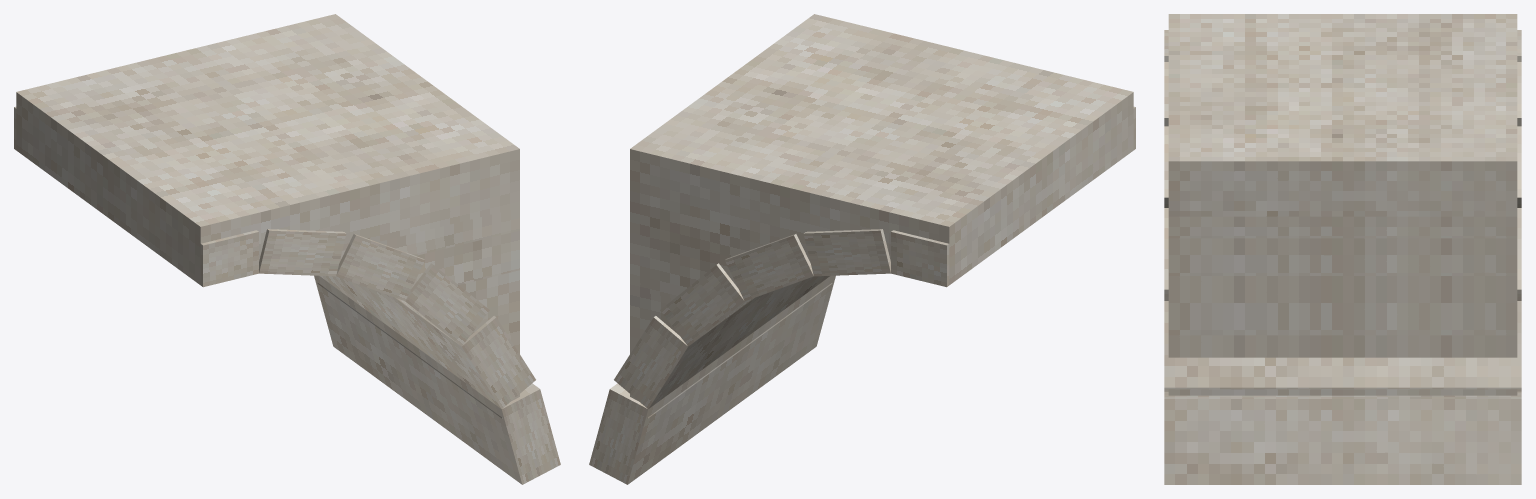
File: lime_gypsum_plaster_double_arch.obj
The picture shows the model from 3 angles, left to right: view 1: azimuth 30°, elevation 25°; view 2: azimuth 150°, elevation 25°; view 3: azimuth 270°, elevation 25°; orthographic projection. The views are drawn at different scales.
Visible parts, largest first — view 1: cube.001; view 2: cube.001; view 3: cube.001.
Part boxes in pixels (x1,y1,x2,y2): cube.001: [14, 14, 560, 484]; cube.001: [589, 14, 1135, 484]; cube.001: [1164, 14, 1521, 484].
Bounding box in the file's own units: 1.12 × 1 × 1.03.
